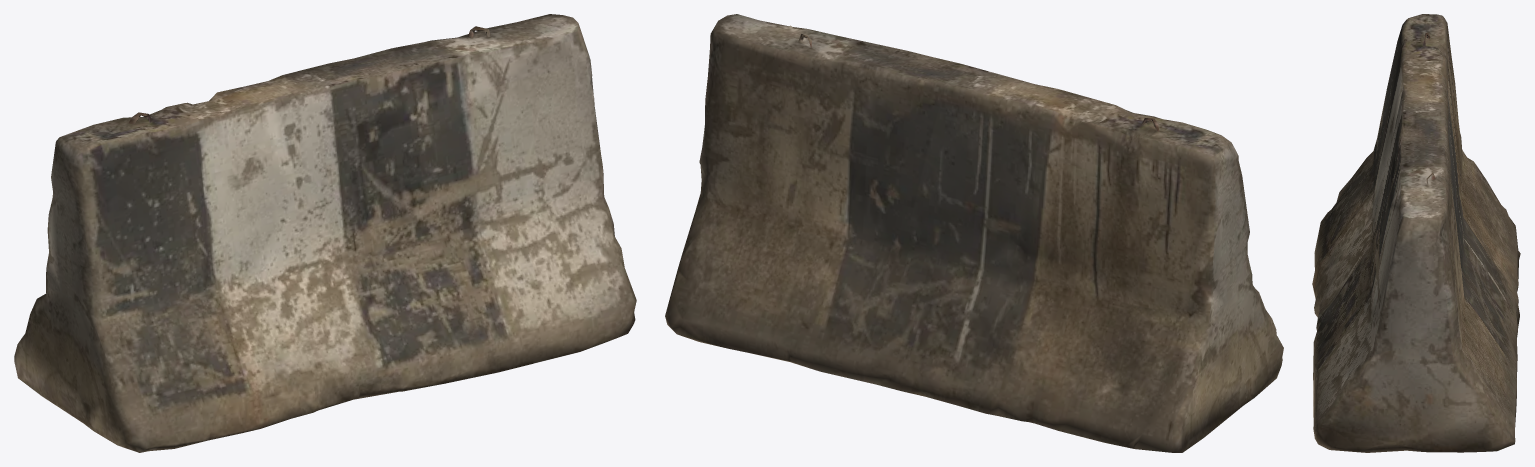
The model's file is concrete_road_barrier.glb.
3 views of the same model, side by side, from view 1: azimuth 30°, elevation 25°; view 2: azimuth 150°, elevation 25°; view 3: azimuth 270°, elevation 25° (orthographic). The views are drawn at different scales.
Visible parts, largest first — view 1: concrete_road_barrier; view 2: concrete_road_barrier; view 3: concrete_road_barrier.
Boxes of the visible parts, x1=… form: concrete_road_barrier: x1=14, y1=14, x2=636, y2=452; concrete_road_barrier: x1=665, y1=14, x2=1283, y2=452; concrete_road_barrier: x1=1312, y1=14, x2=1520, y2=452.
Size of the model in its own units: 1.54 by 0.8284 by 0.6388.
Materials: 1 (1 with a texture image).
